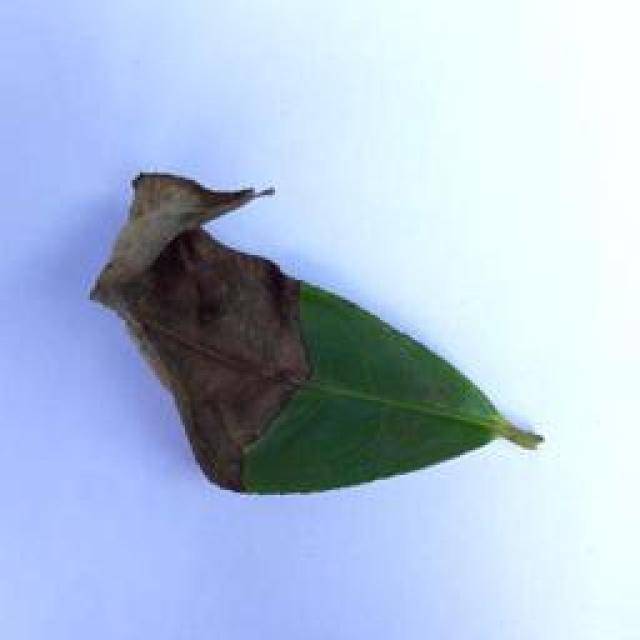Brown Blight: (78, 158, 546, 501)
